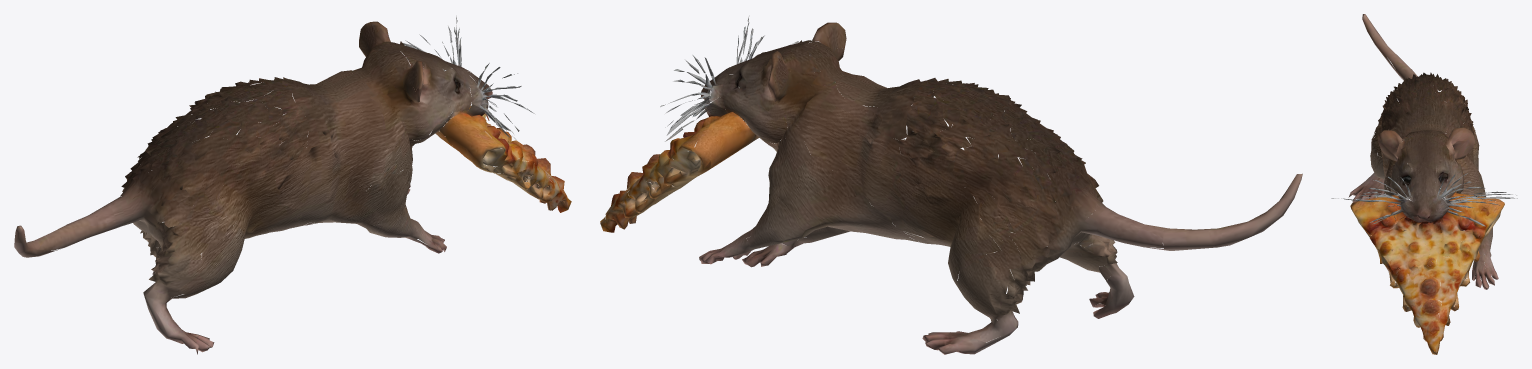
Rendered from rat.glb.
3 renders of one model, left to right at view 1: azimuth 30°, elevation 25°; view 2: azimuth 150°, elevation 25°; view 3: azimuth 270°, elevation 25°, orthographic. The views are drawn at different scales.
Visible parts, largest first — view 1: tripo_node_39ab3ab0-b53a-43e4-97d4-f85e7a944295; view 2: tripo_node_39ab3ab0-b53a-43e4-97d4-f85e7a944295; view 3: tripo_node_39ab3ab0-b53a-43e4-97d4-f85e7a944295.
Boxes of the visible parts, x1=… form: tripo_node_39ab3ab0-b53a-43e4-97d4-f85e7a944295: x1=14, y1=15, x2=571, y2=354; tripo_node_39ab3ab0-b53a-43e4-97d4-f85e7a944295: x1=600, y1=15, x2=1302, y2=354; tripo_node_39ab3ab0-b53a-43e4-97d4-f85e7a944295: x1=1331, y1=14, x2=1517, y2=354.
Bounding box in the file's own units: 1 × 0.3539 × 0.3577.
1 material, 1 textured.
